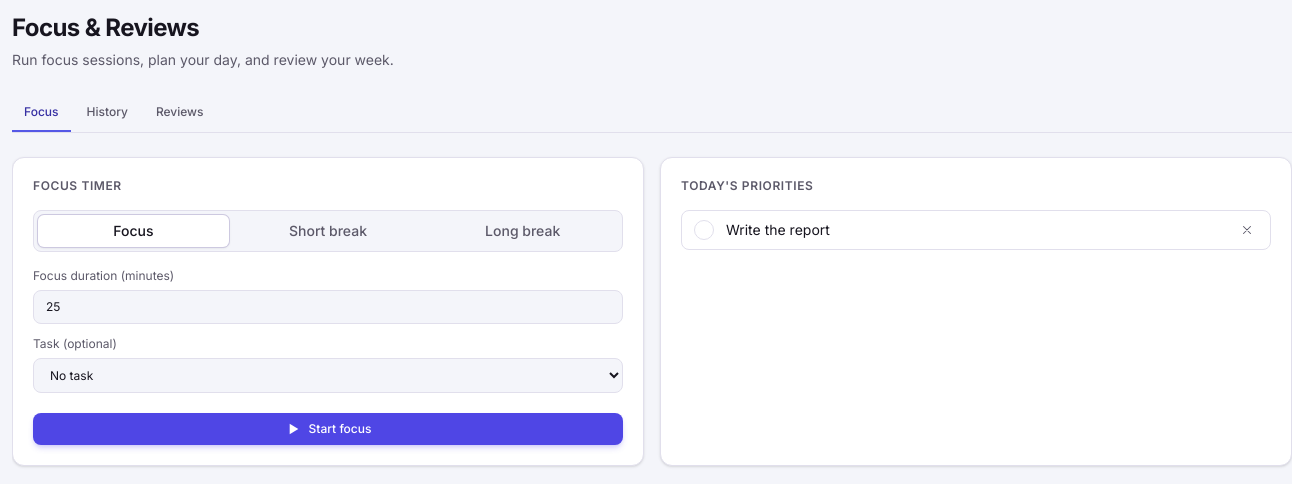
Test case: FocusTab — daily planning › removes a task from today's priorities and persists it
Expected: the text "Write the report" is shown, [726, 221, 830, 238]
Click the button named "remove \"write the report\"" at (1247, 230), box [1236, 219, 1258, 241]
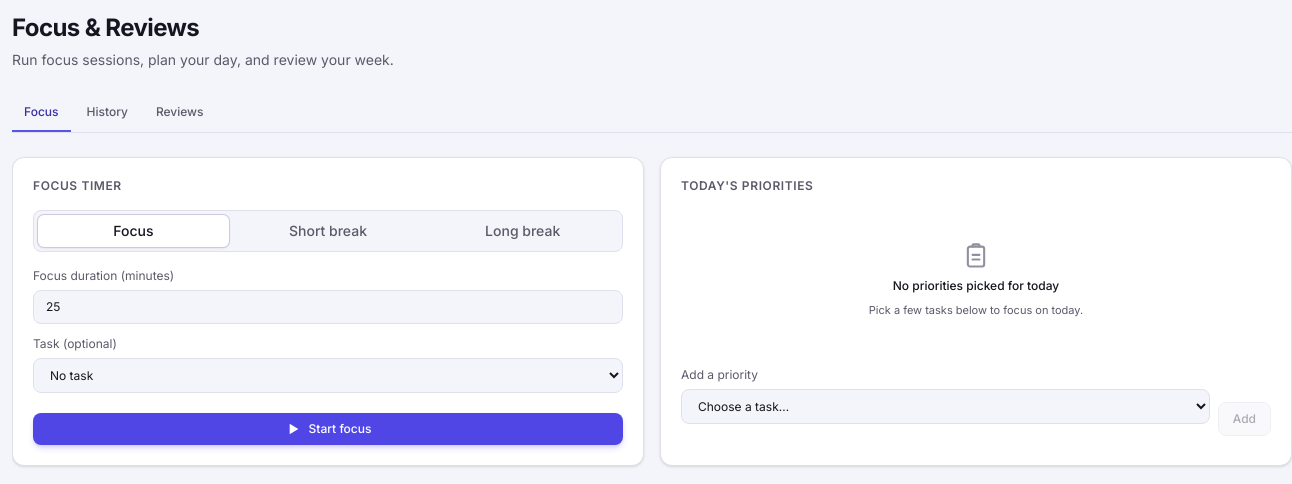
Result: the text "Write the report" is gone
